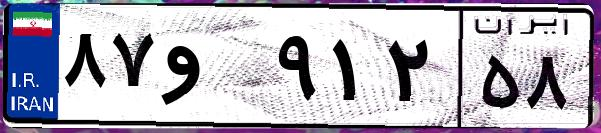1: (330, 28, 385, 110)
2: (385, 28, 445, 110)
5: (475, 38, 525, 113)
7: (110, 28, 158, 98)
8: (57, 26, 110, 100), (525, 38, 570, 115)
9: (270, 28, 330, 110)
و: (158, 20, 270, 120)
